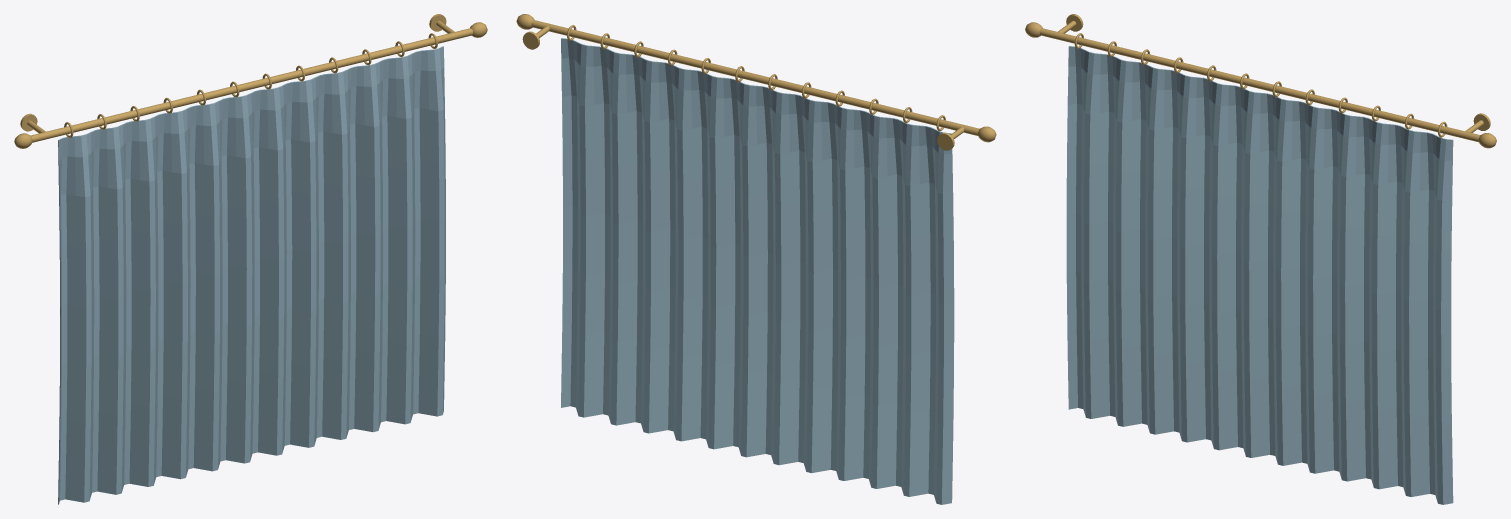
The model's file is curtains_closed_pleated.glb.
The picture shows the model from 3 angles, left to right: view 1: azimuth 30°, elevation 25°; view 2: azimuth 150°, elevation 25°; view 3: azimuth 330°, elevation 25°; orthographic projection.
Parts seen in each view (by area): view 1: Closed_Curtain_Left, Closed_Curtain_Right, Closed_Curtains_Rod; view 2: Closed_Curtain_Left, Closed_Curtain_Right, Closed_Curtains_Rod; view 3: Closed_Curtain_Right, Closed_Curtain_Left, Closed_Curtains_Rod.
Part boxes in pixels (x1,y1,x2,y2): Closed_Curtain_Left: (58, 93, 253, 504); Closed_Curtain_Right: (251, 46, 445, 456); Closed_Curtains_Rod: (31, 28, 472, 142); Closed_Curtain_Left: (756, 85, 954, 504); Closed_Curtain_Right: (561, 38, 758, 457); Closed_Curtains_Rod: (531, 20, 979, 135); Closed_Curtain_Right: (1258, 93, 1453, 504); Closed_Curtain_Left: (1066, 46, 1260, 457); Closed_Curtains_Rod: (1039, 28, 1480, 142).
Bounding box in the file's own units: 3.19 × 2.45 × 0.2904.
